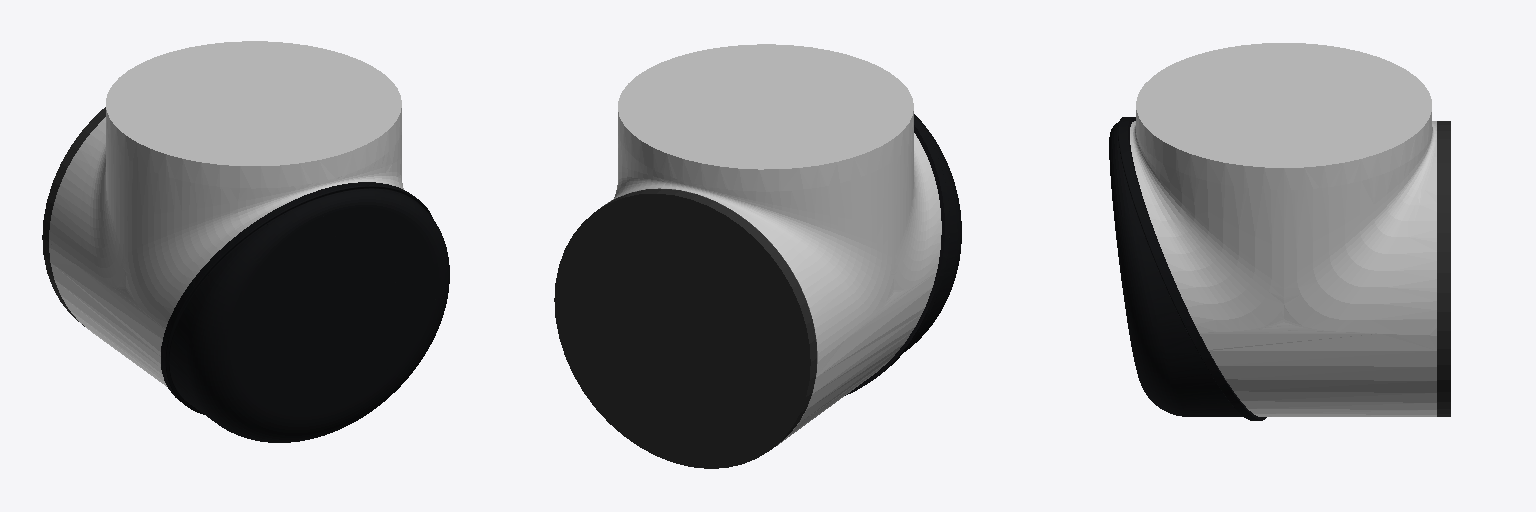
The model's file is shoulder.obj.
3 renders of one model, left to right at view 1: azimuth 30°, elevation 25°; view 2: azimuth 150°, elevation 25°; view 3: azimuth 270°, elevation 25°, orthographic.
Parts seen in each view (by area): view 1: verbindung.002, blau.002, Scheibe.002; view 2: verbindung.002, Scheibe.002, blau.002; view 3: verbindung.002, blau.002, Scheibe.002.
Part boxes in pixels (x1,y1,x2,y2): verbindung.002: (49,41,403,386); blau.002: (161,182,449,442); Scheibe.002: (42,107,105,326); verbindung.002: (602,44,941,445); Scheibe.002: (554,189,816,468); blau.002: (845,114,961,395); verbindung.002: (1130,43,1436,416); blau.002: (1109,117,1266,420); Scheibe.002: (1437,121,1450,416).
Bounding box in the file's own units: 0.119 × 0.13 × 0.1337.